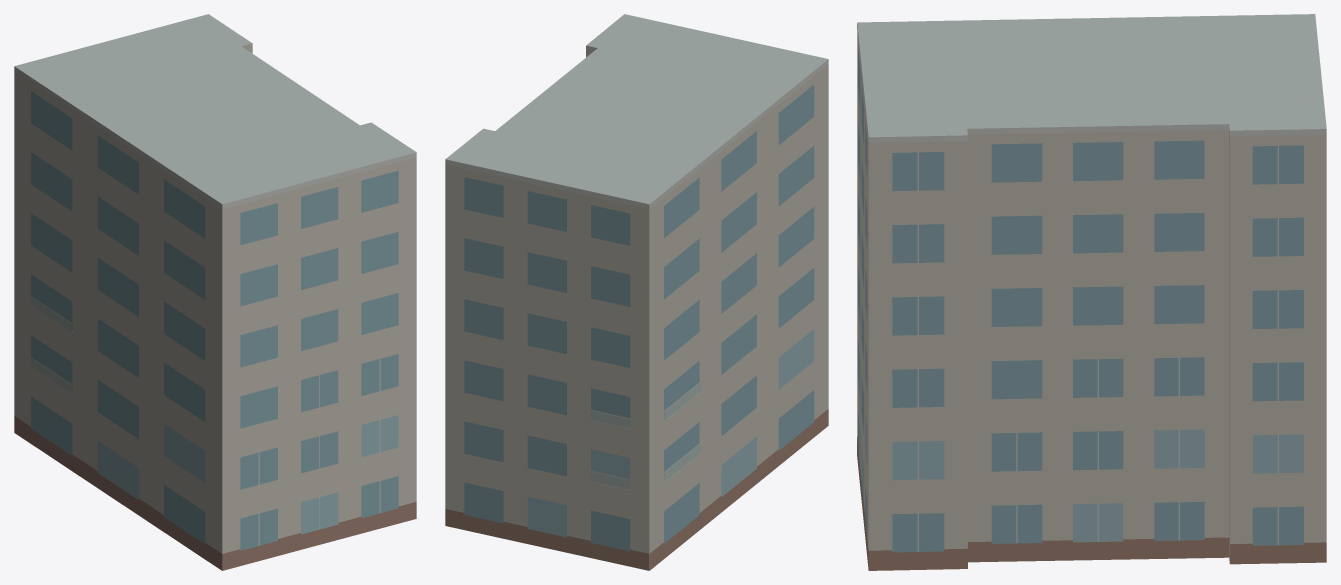
The model's file is survey-upis-33036293.glb.
The picture shows the model from 3 angles, left to right: view 1: azimuth 30°, elevation 25°; view 2: azimuth 150°, elevation 25°; view 3: azimuth 270°, elevation 25°; orthographic projection. The views are drawn at different scales.
Parts seen in each view (by area): view 1: survey-upis-33036293.tmp; view 2: survey-upis-33036293.tmp; view 3: survey-upis-33036293.tmp.
Part boxes in pixels (x1=…): survey-upis-33036293.tmp: x1=14, y1=14, x2=416, y2=570; survey-upis-33036293.tmp: x1=445, y1=14, x2=828, y2=570; survey-upis-33036293.tmp: x1=857, y1=14, x2=1326, y2=570.
Bounding box in the file's own units: 11.18 × 18.3 × 17.97.
